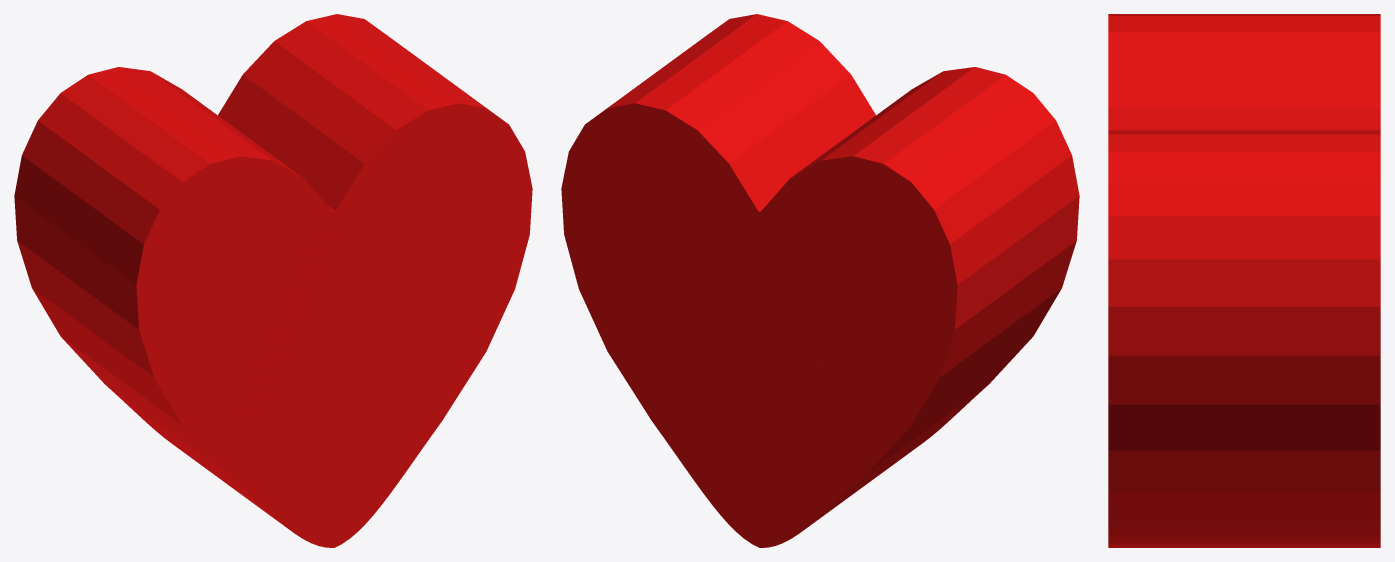
File: Heart 3d model.glb
The picture shows the model from 3 angles, left to right: view 1: azimuth 30°, elevation 25°; view 2: azimuth 150°, elevation 25°; view 3: azimuth 270°, elevation 25°; orthographic projection. The views are drawn at different scales.
Parts seen in each view (by area): view 1: Mesh_Mesh_head_geo%2E001_lambert2SG%2E001; view 2: Mesh_Mesh_head_geo%2E001_lambert2SG%2E001; view 3: Mesh_Mesh_head_geo%2E001_lambert2SG%2E001.
Boxes of the visible parts, box(x1,y1,x2,y2) form: Mesh_Mesh_head_geo%2E001_lambert2SG%2E001: box(14, 14, 532, 547); Mesh_Mesh_head_geo%2E001_lambert2SG%2E001: box(561, 14, 1079, 547); Mesh_Mesh_head_geo%2E001_lambert2SG%2E001: box(1108, 14, 1380, 547).
Size of the model in its own units: 47.6 by 47.6 by 25.39.
